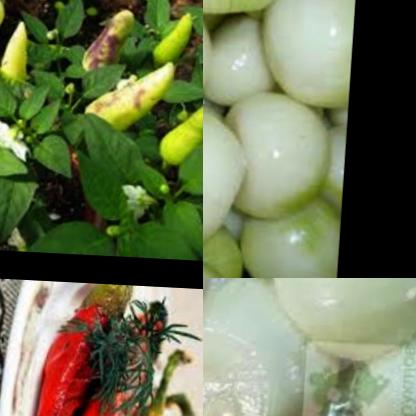hot pepper: (10, 278, 131, 416), (76, 46, 186, 134), (49, 340, 154, 416), (76, 349, 193, 416), (80, 0, 139, 72), (156, 93, 203, 165), (151, 4, 201, 71), (2, 15, 37, 86), (0, 0, 18, 81)
onion: (203, 0, 362, 278), (203, 278, 416, 416)
